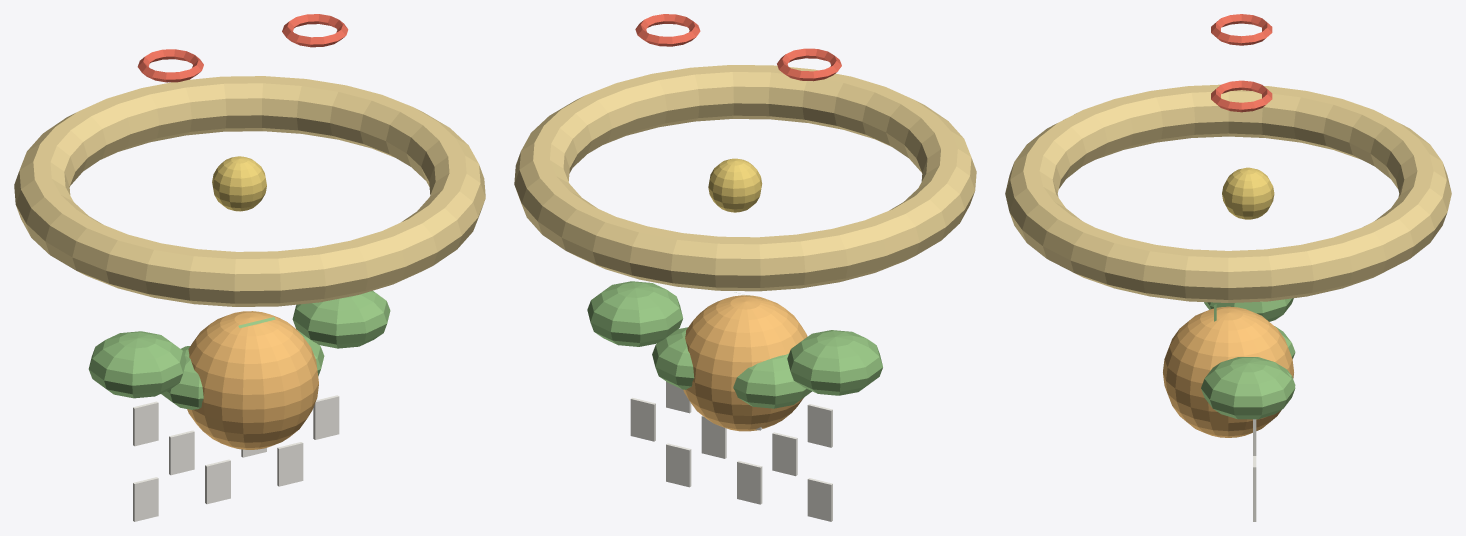
The model's file is shimekazari.glb.
3 renders of one model, left to right at view 1: azimuth 30°, elevation 25°; view 2: azimuth 150°, elevation 25°; view 3: azimuth 270°, elevation 25°, orthographic. The views are drawn at different scales.
Visible parts, largest first — view 1: shimekazari; view 2: shimekazari; view 3: shimekazari.
Part boxes in pixels (left/top/right/bottom): shimekazari: left=14, top=14, right=485, bottom=521; shimekazari: left=514, top=14, right=976, bottom=521; shimekazari: left=1005, top=14, right=1451, bottom=521.
Bounding box in the file's own units: 0.68 × 0.7274 × 0.68.
